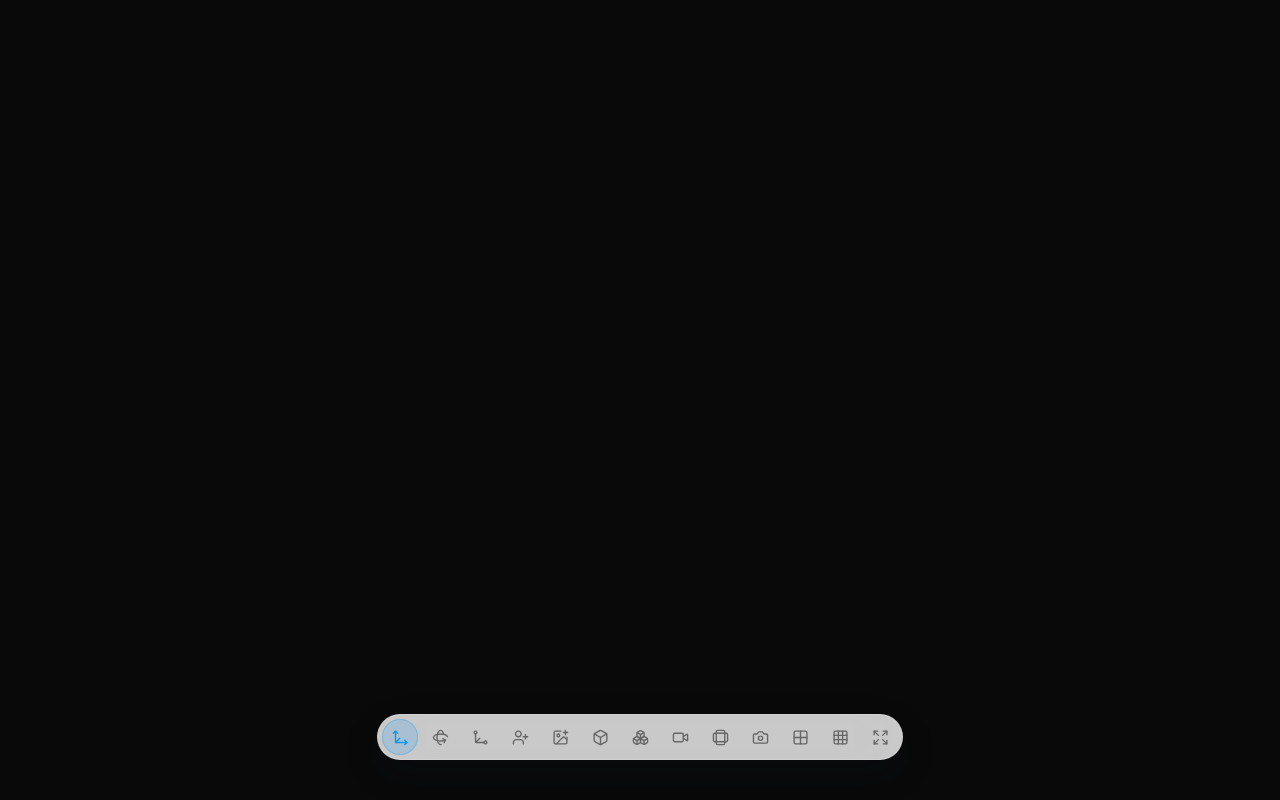
Test: closes the model library panel from its close button
Click the button named "模型库" at (640, 737), box [622,719,658,755]
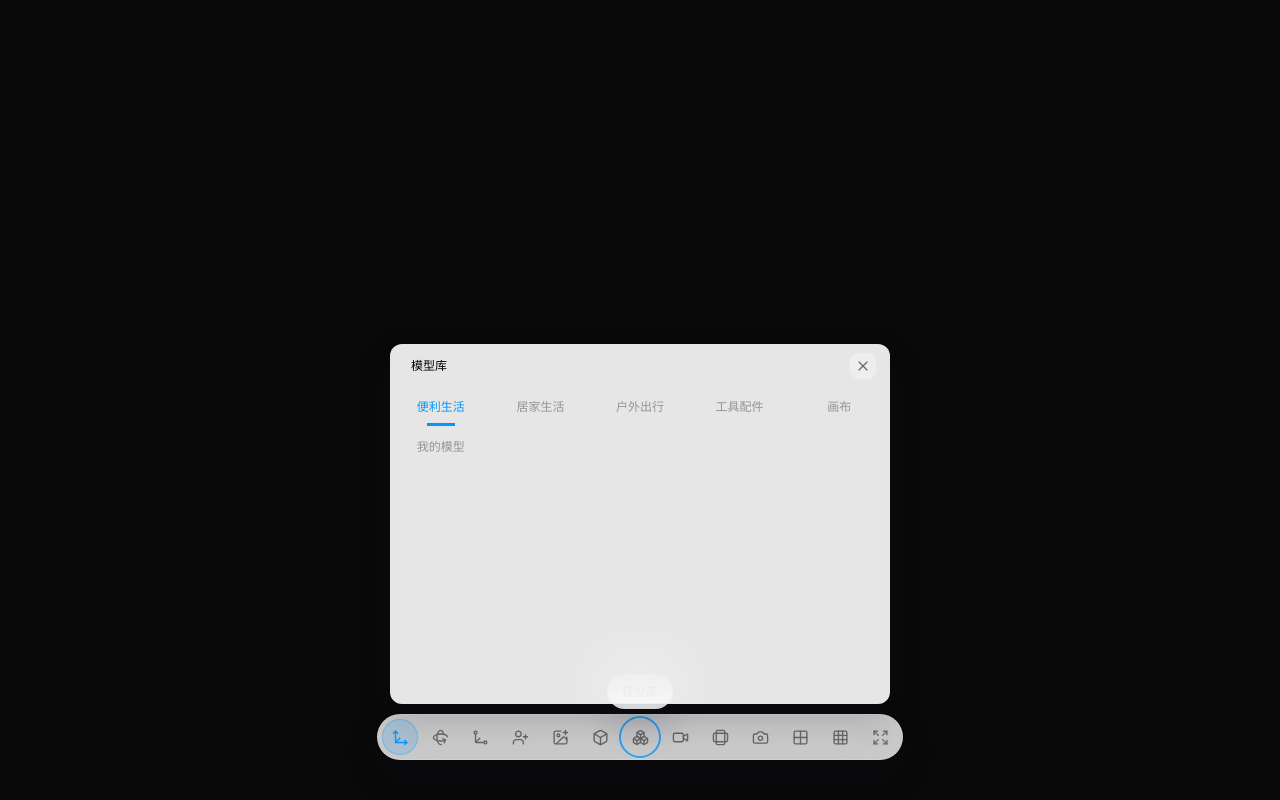
Click the button named "关闭模型库" at (863, 366), box [849,352,877,380]
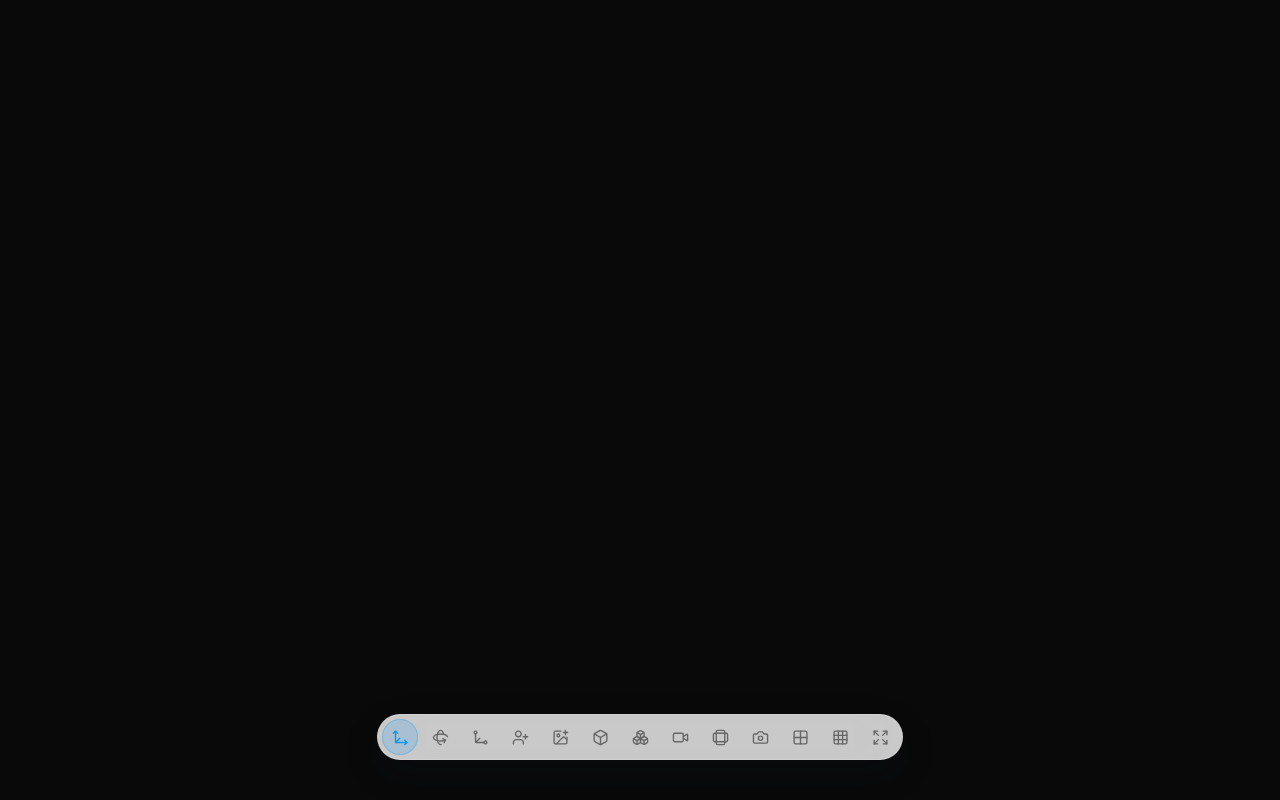
Check: the button "模型库" is gone
